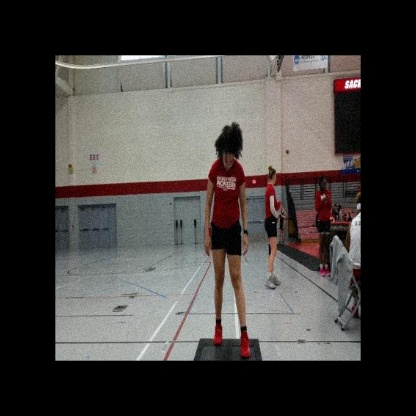lateral_flexion_left: (204, 156, 253, 359)
stance_width_normal: (203, 122, 253, 361)
